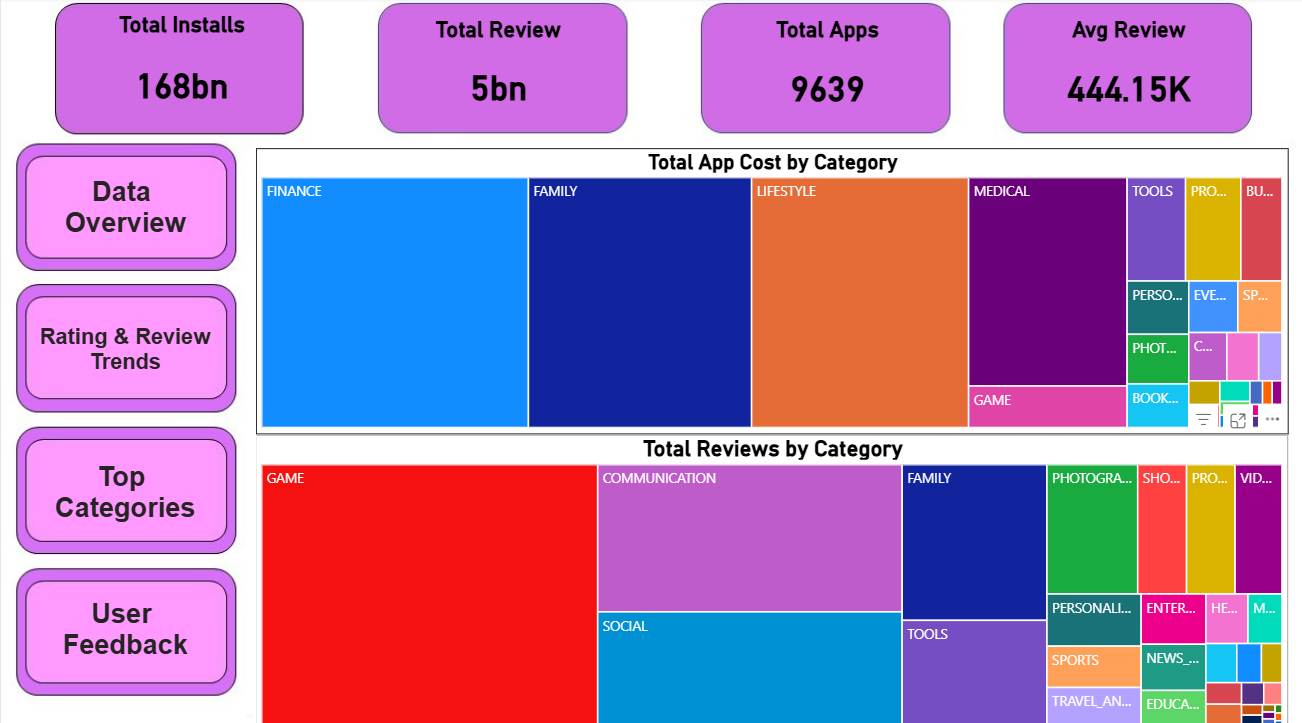

Layout of this report page (visuals, bound fields, positions):
{"tool":"powerbi","page":{"name":"Page 4","canvas":[1280,720],"ordinal":3},"visuals":[{"type":"treemap","fields":{"Group":["Play Store Data.Category"],"Values":["Play Store Data.Total App Cost"]},"box":[250.1,148.9,1013.5,280.5],"z":0},{"type":"treemap","fields":{"Group":["Play Store Data.Category"],"Values":["Play Store Data.Total Reviews"]},"box":[250.1,429.4,1013.5,290.6],"z":1000},{"type":"card","title":"Avg Review","fields":{"Values":["Play Store Data.Avg Review"]},"box":[999,20.2,216.9,112.8],"z":2000},{"type":"card","title":"Total Apps","fields":{"Values":["Play Store Data.No Of Apps"]},"box":[708.4,20.2,206.7,112.8],"z":3000},{"type":"card","title":"Total Review","fields":{"Values":["Play Store Data.Total Reviews"]},"box":[387.5,20.2,201,109.9],"z":4000},{"type":"card","title":"Total Installs","fields":{"Values":["Play Store Data.Total Installs"]},"box":[73.7,14.5,208.2,115.7],"z":5000},{"type":"textbox","box":[33.3,172,177.8,75.2],"z":6000},{"type":"textbox","box":[33.3,316.6,177.8,86.7],"z":7000},{"type":"textbox","box":[33.3,451.1,177.8,86.7],"z":8000},{"type":"textbox","box":[33.3,585.5,177.8,92.5],"z":9000}]}

Visuals, with their boxes in screenshot pixels (x1, y1, x2, y2), scaled from the page's 1280x720 canvas onto the 1302x723 screenshot:
treemap - Play Store Data.Category x Play Store Data.Total App Cost: 254:150:1285:431
treemap - Play Store Data.Category x Play Store Data.Total Reviews: 254:431:1285:722
"Avg Review" card: 1016:20:1237:134
"Total Apps" card: 721:20:931:134
"Total Review" card: 394:20:599:131
"Total Installs" card: 75:15:287:131
textbox: 34:173:215:248
textbox: 34:318:215:405
textbox: 34:453:215:540
textbox: 34:588:215:681
